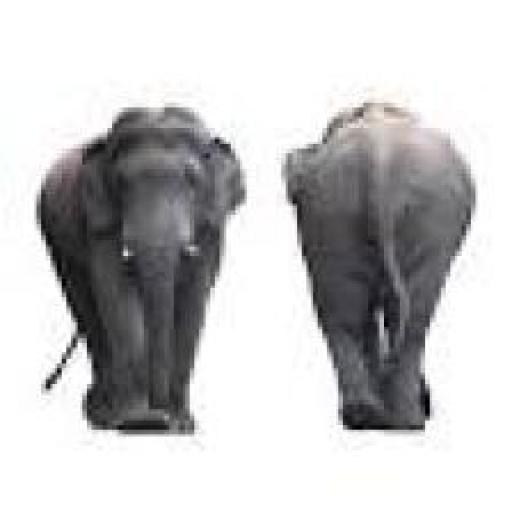Elephant: (39, 109, 244, 431), (287, 102, 475, 431)
